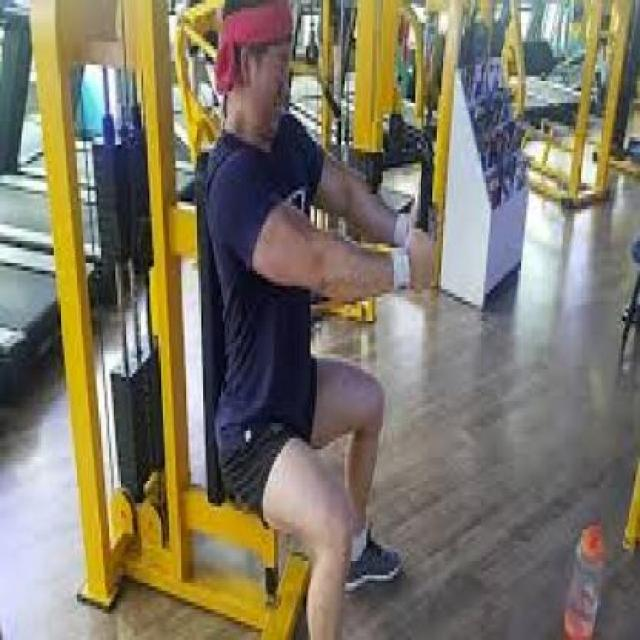chest fly machine: (35, 0, 460, 640)
